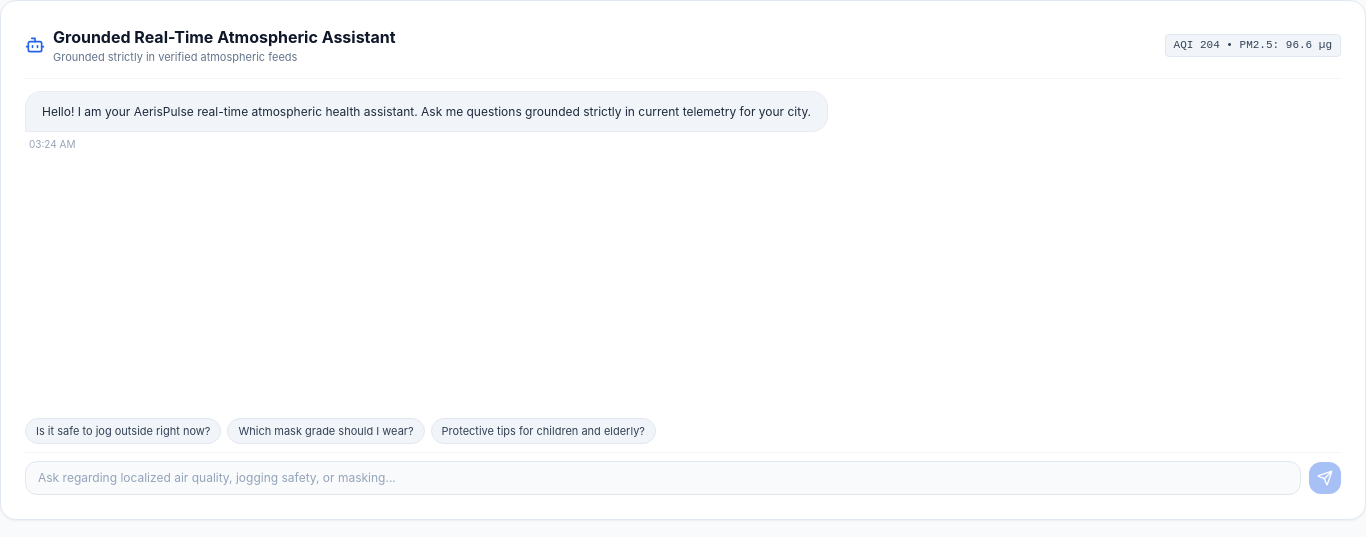
Test: StreamingChat Component Unit Suite › allows clicking quick prompt and appends user message
The image size is (1366, 537).
Click the button "Is it safe to jog outside right now?" at (123,431), box [25, 418, 221, 444]
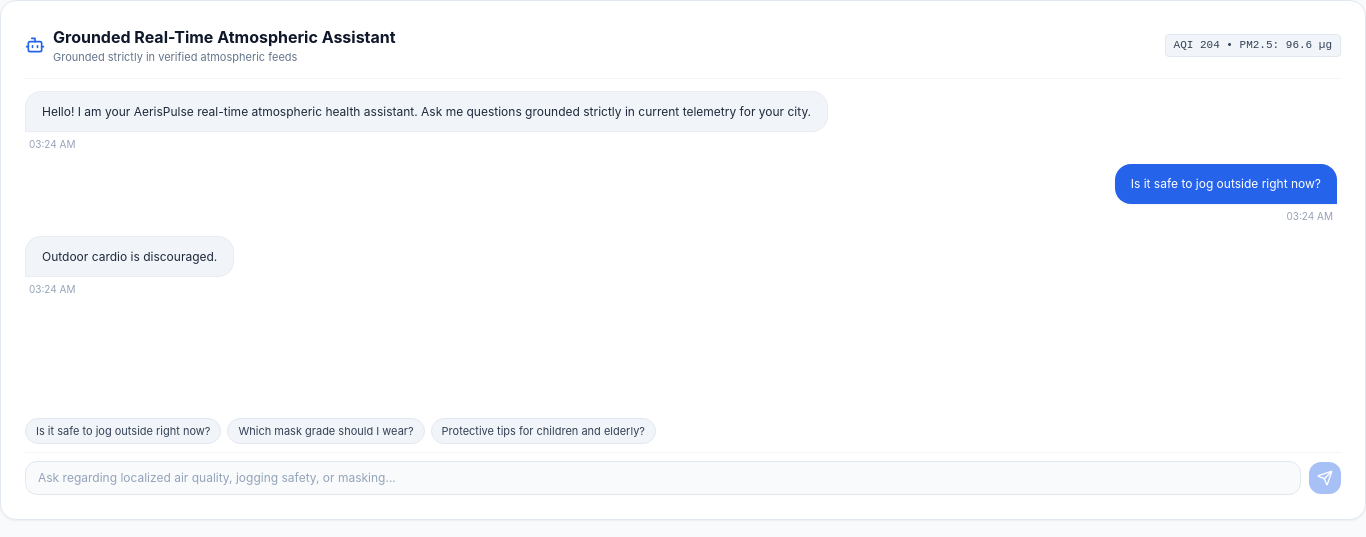
Expected: the text "Is it safe to jog outside right now?" is shown, [1131, 174, 1321, 194]
